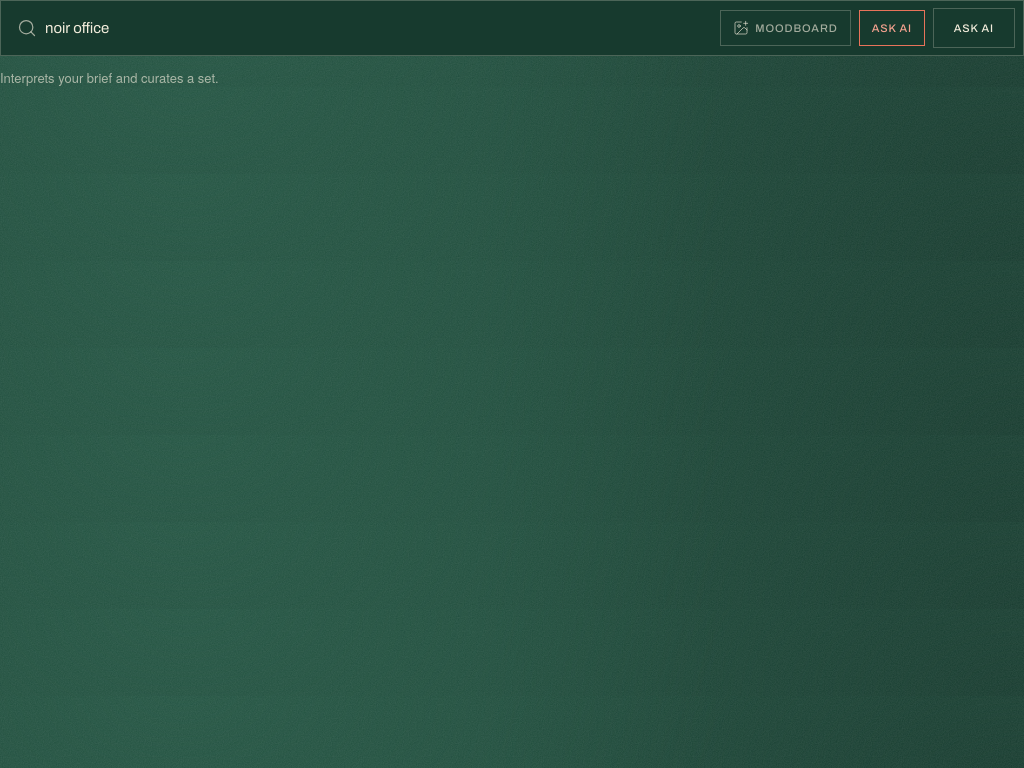
Test case: AI engine › opens the prompt modal instead of navigating when submitted with AI armed
Click the submit button at {"x": 974, "y": 28}, box [933,8,1015,48]
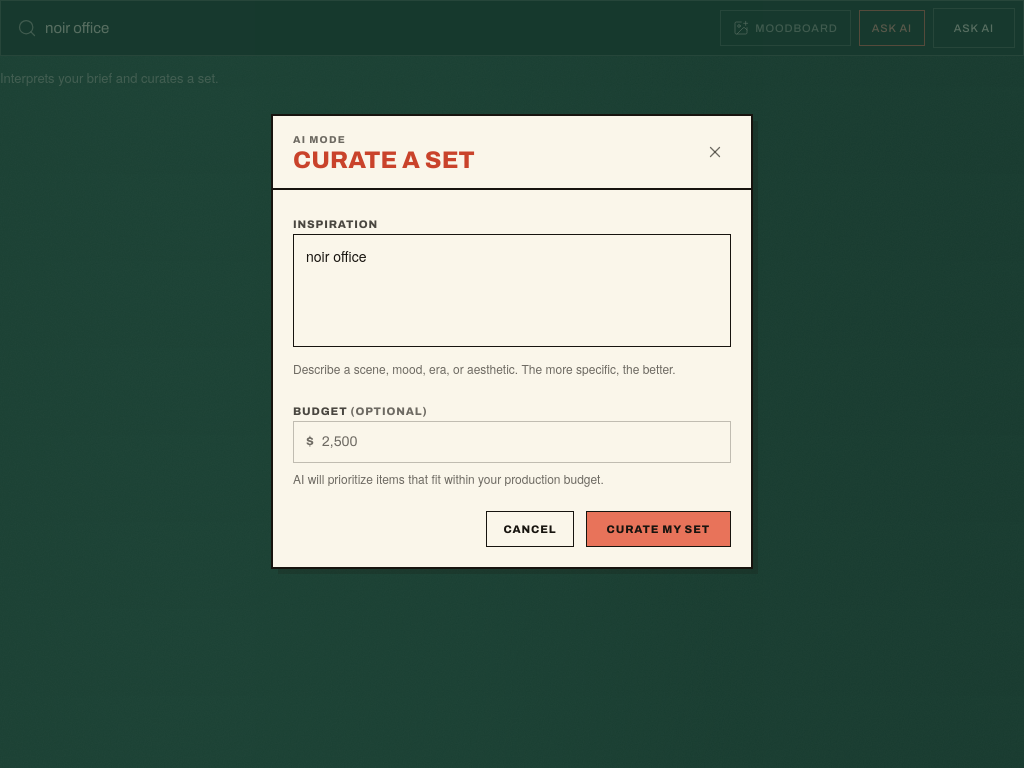
Expected: the text box labelled "Inspiration" holds "noir office", [293,234,731,347]
